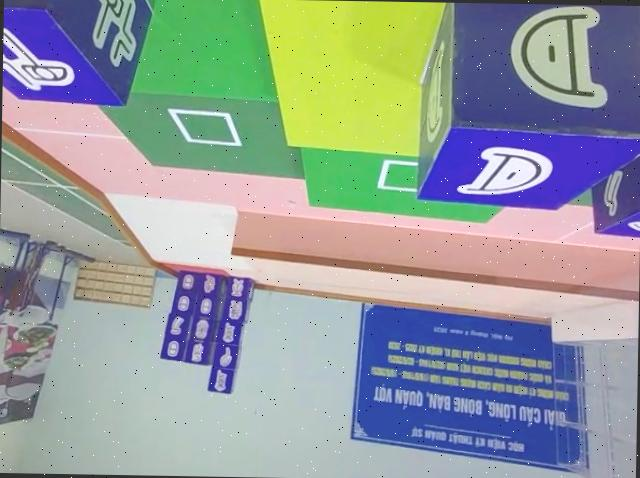R2 Real Blue: (413, 1, 640, 213), (2, 0, 151, 103), (593, 142, 640, 239)
